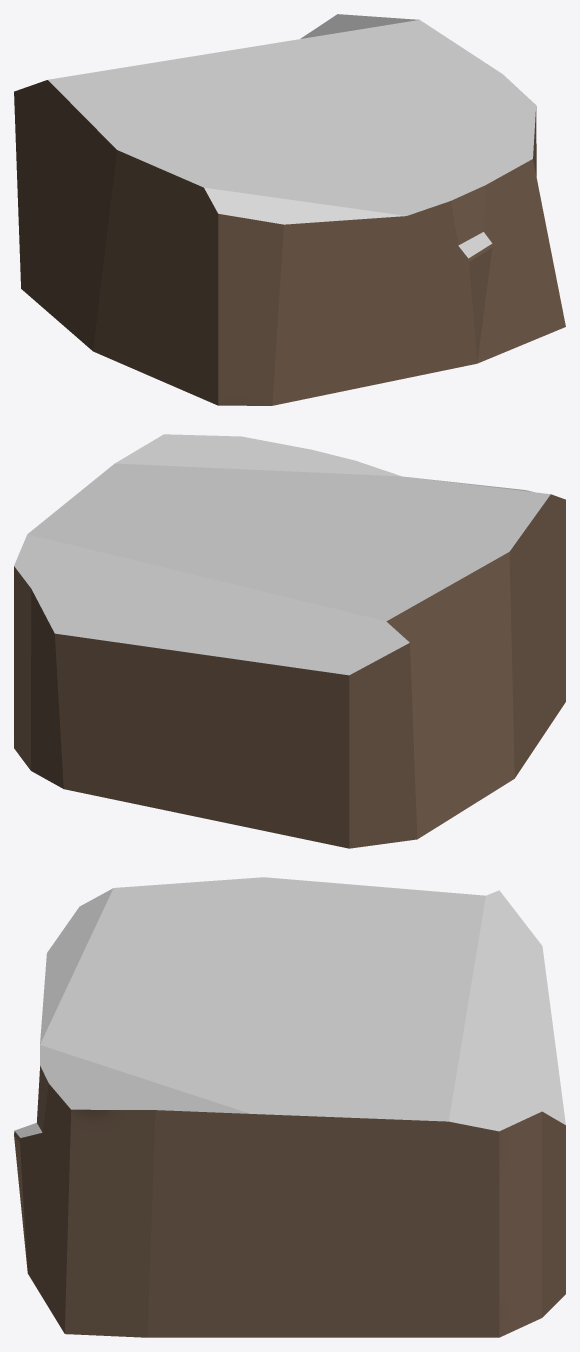
The model's file is rock02_model.fbx.
3 renders of one model, top to bottom at view 1: azimuth 30°, elevation 25°; view 2: azimuth 150°, elevation 25°; view 3: azimuth 270°, elevation 25°, orthographic. The views are drawn at different scales.
Parts seen in each view (by area): view 1: Cube; view 2: Cube; view 3: Cube.
Part boxes in pixels (x1,y1,x2,y2): Cube: [14, 14, 565, 405]; Cube: [14, 434, 565, 848]; Cube: [14, 877, 565, 1337].
Size of the model in its own units: 2.35 by 1.18 by 2.38.
